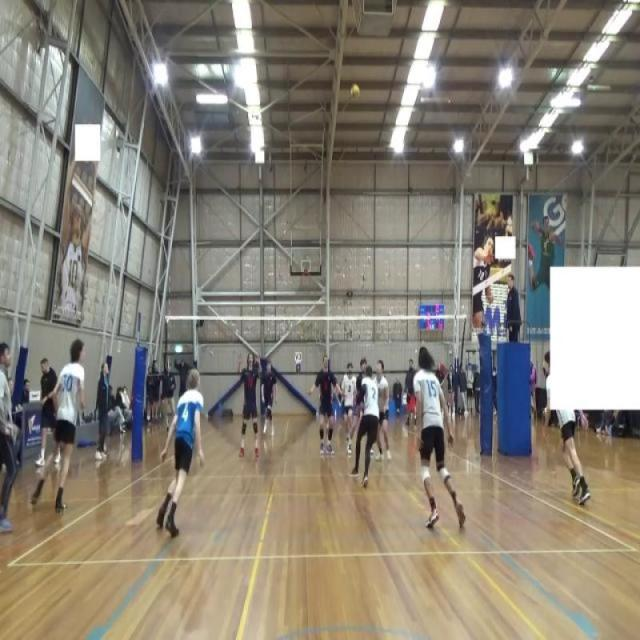volleyball: (349, 81, 361, 102)
